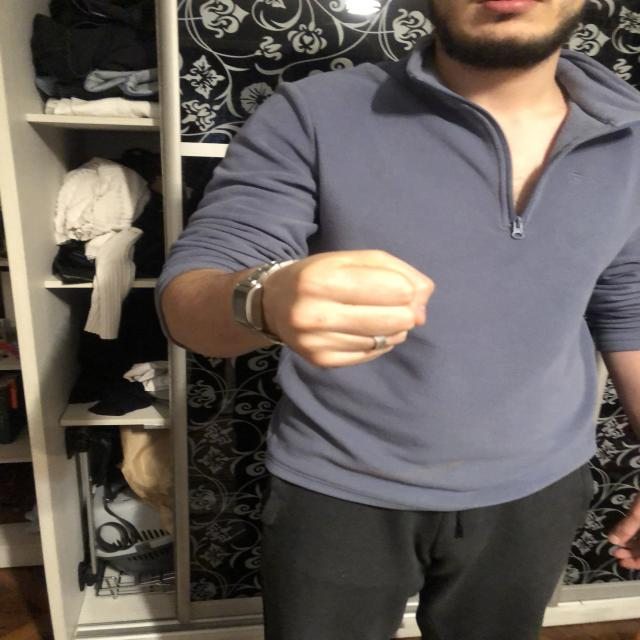rock: (286, 252, 430, 365)
